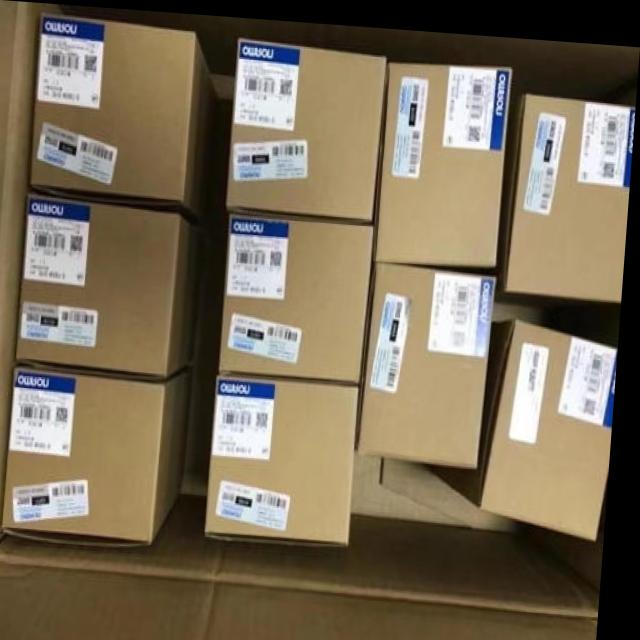box: (0, 1, 634, 640), (424, 311, 621, 530), (33, 16, 219, 219), (21, 191, 205, 376), (9, 360, 194, 542), (498, 86, 634, 304), (232, 38, 387, 217), (362, 254, 498, 457), (376, 57, 510, 256), (214, 371, 366, 538), (225, 211, 375, 378)
